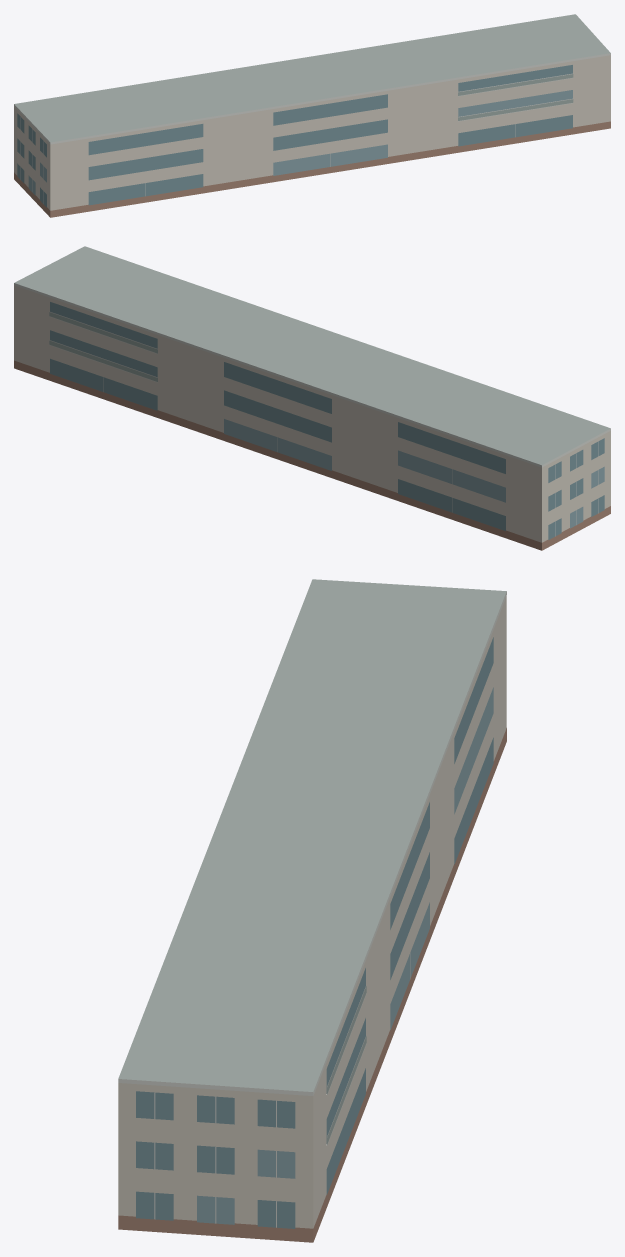
The model's file is survey-upis-32592419.glb.
3 views of the same model, one above another, from view 1: azimuth 30°, elevation 25°; view 2: azimuth 150°, elevation 25°; view 3: azimuth 270°, elevation 25° (orthographic). The views are drawn at different scales.
Parts seen in each view (by area): view 1: survey-upis-32592419.tmp; view 2: survey-upis-32592419.tmp; view 3: survey-upis-32592419.tmp.
Part boxes in pixels (x1=…): survey-upis-32592419.tmp: x1=14, y1=14, x2=610, y2=217; survey-upis-32592419.tmp: x1=14, y1=246, x2=610, y2=550; survey-upis-32592419.tmp: x1=118, y1=579, x2=506, y2=1242.
Bounding box in the file's own units: 66.86 × 9.15 × 21.41.
